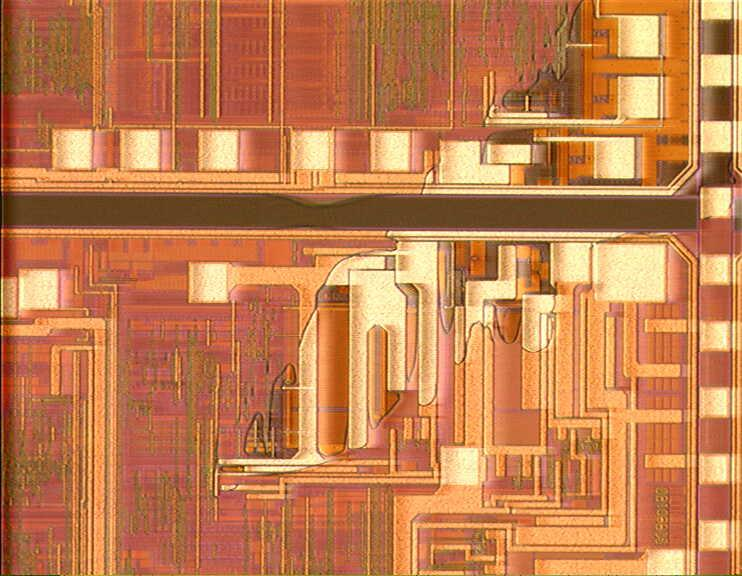COATING BAD: (216, 1, 742, 499)
